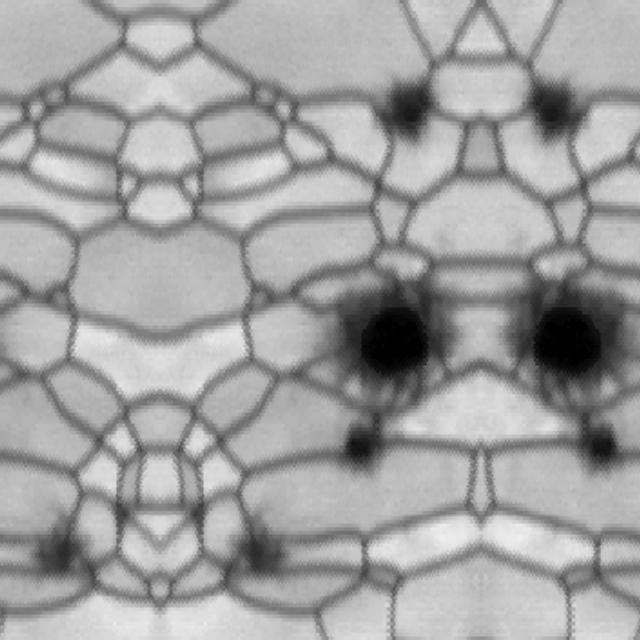good_void: (294, 277, 480, 424), (482, 277, 640, 424), (223, 519, 300, 592), (18, 519, 95, 592), (323, 420, 406, 487), (555, 420, 638, 487), (512, 77, 583, 150), (379, 77, 449, 150)
